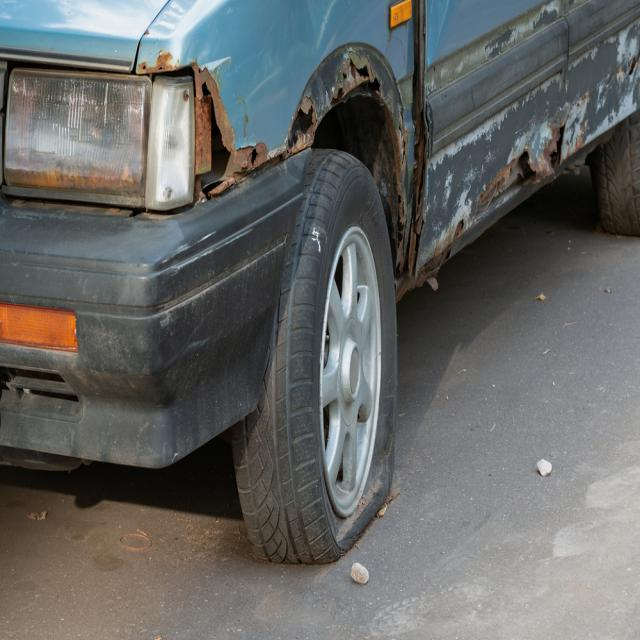crack: (474, 148, 536, 221), (197, 70, 229, 190), (329, 58, 379, 106), (288, 105, 314, 152), (547, 120, 568, 168), (249, 147, 259, 165)
tire flat: (232, 148, 399, 567)
